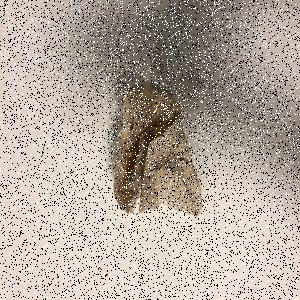Trash: (113, 84, 204, 219)
